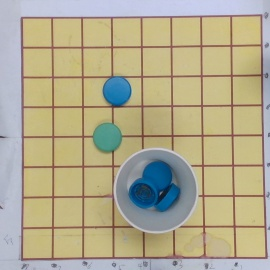blue: (102, 77, 132, 105)
cup_blue: (113, 148, 200, 234)
green: (93, 123, 122, 152)
